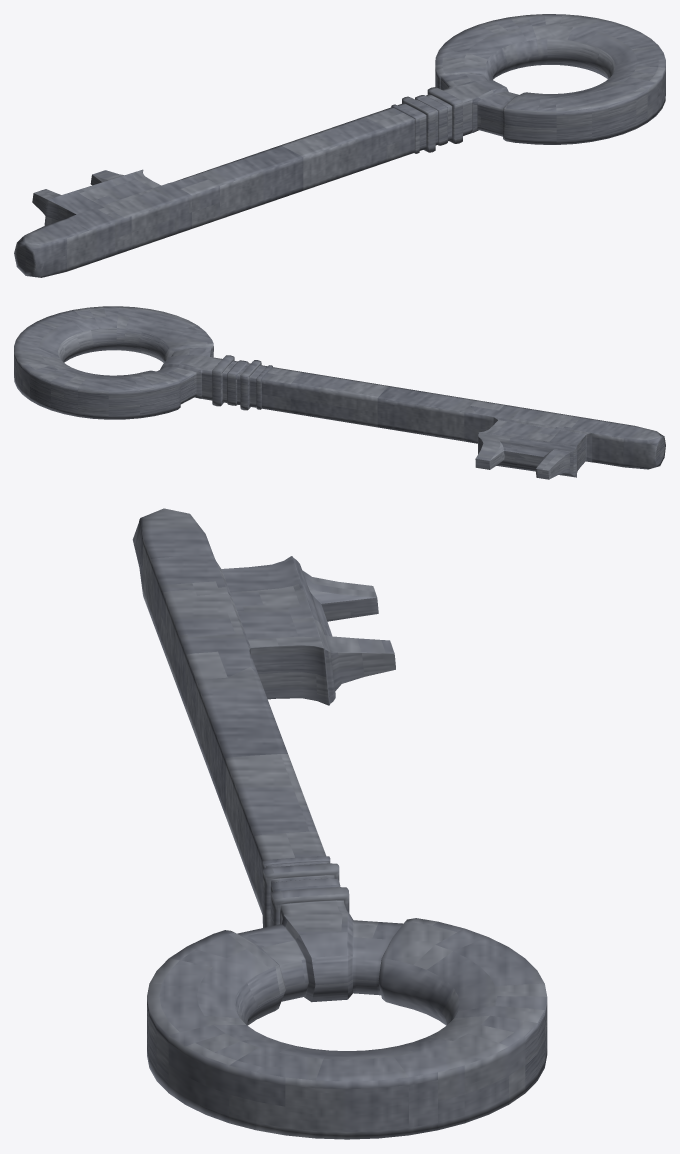
File: Key.fbx
3 views of the same model, one above another, from view 1: azimuth 30°, elevation 25°; view 2: azimuth 150°, elevation 25°; view 3: azimuth 270°, elevation 25° (orthographic). The views are drawn at different scales.
Visible parts, largest first — view 1: pPipe2; view 2: pPipe2; view 3: pPipe2.
Part boxes in pixels (box(x1,y1,x2,y2)): pPipe2: box(14, 14, 665, 277); pPipe2: box(14, 306, 665, 479); pPipe2: box(132, 508, 547, 1139).
Bounding box in the file's own units: 8.28 × 0.4877 × 2.52.
1 material, 1 textured.
